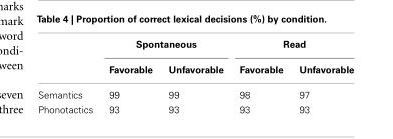table: (37, 37, 353, 99)
table column: (159, 37, 230, 99), (95, 37, 159, 99), (290, 37, 353, 99), (230, 37, 290, 99), (37, 37, 95, 99)
table column header: (37, 37, 353, 81)
table row: (37, 56, 353, 81), (37, 37, 353, 56), (37, 81, 353, 99)
table spanning cell: (95, 37, 230, 56), (230, 37, 353, 56)
